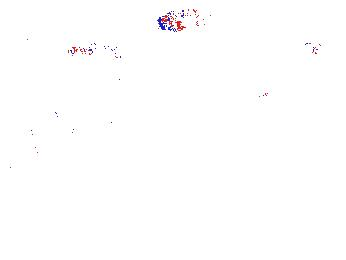X-ray fish: (156, 7, 212, 33)
glassfish: (64, 101, 135, 144), (1, 105, 52, 153)
red belly glassfish: (66, 42, 121, 59), (258, 83, 283, 105), (303, 41, 333, 57)
